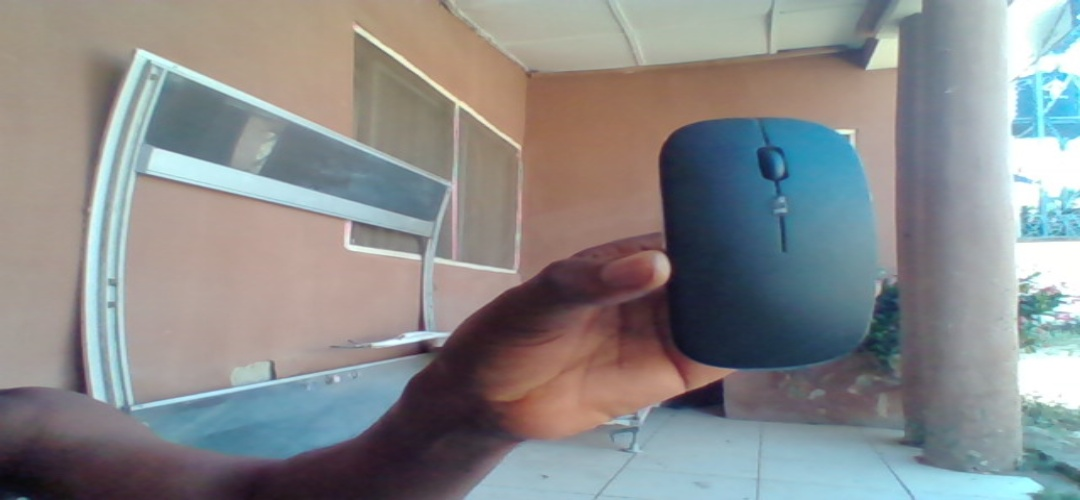wireless_mouse: (659, 113, 879, 374)
